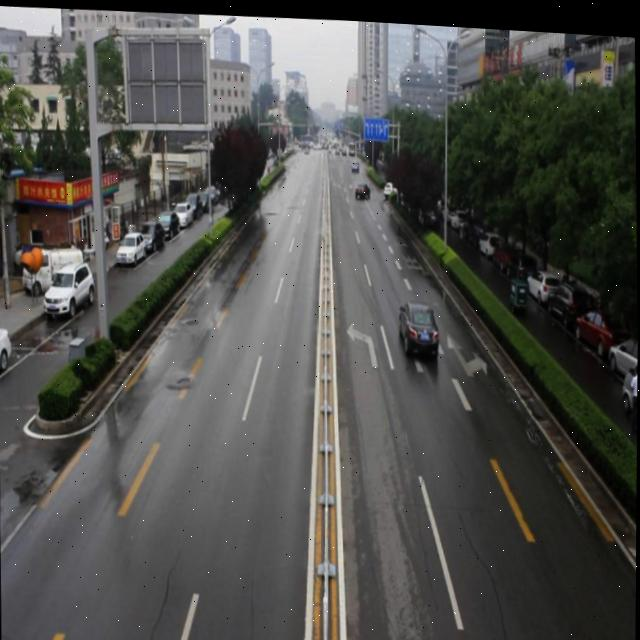car: (396, 293, 439, 355), (382, 174, 398, 196), (352, 177, 370, 196)
